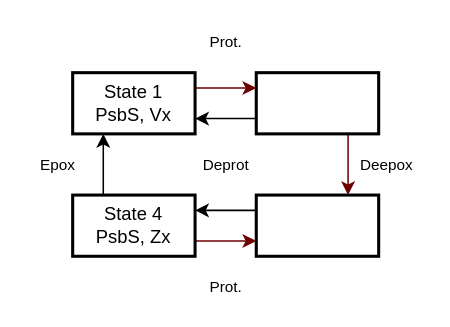
This 450x327 diagram has some shape labels left out. Here are the shapes that lost their labels. From the top down, the centre of each, then its label:
At (316,102): "State 2 PsbSP, Vx".
At (316,225): "State 3 PsbSP, Zx".
